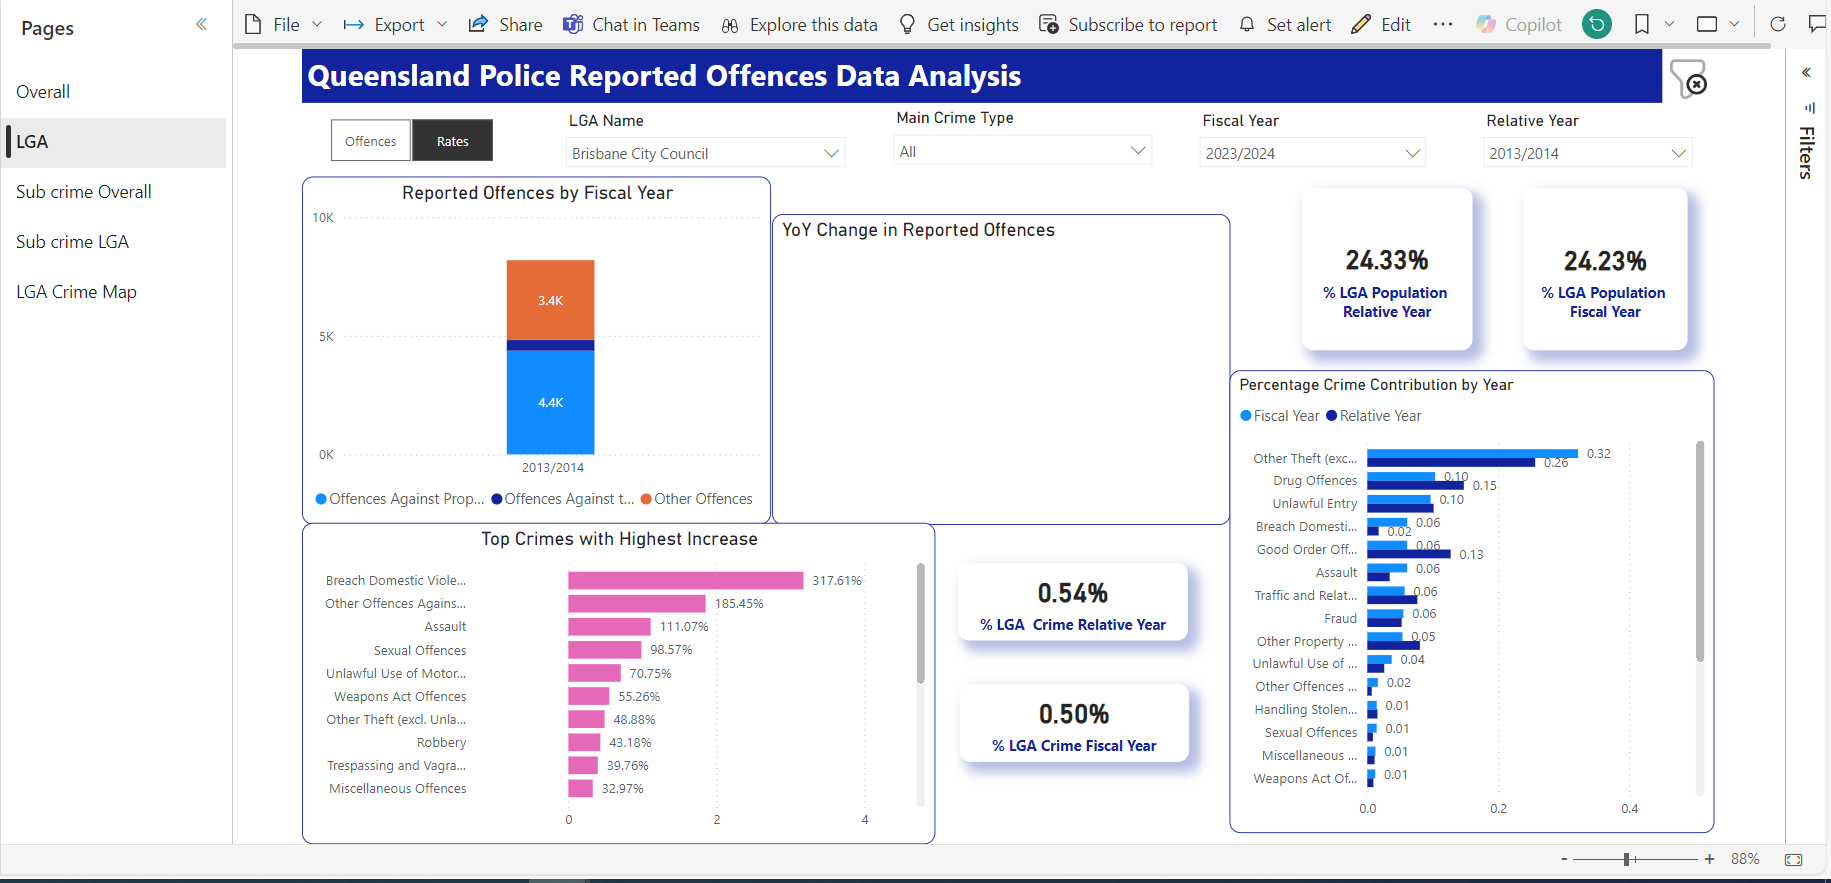

What the dashboard file says about the page in this screenshot:
{"tool":"powerbi","page":{"name":"LGA","canvas":[1280,720],"ordinal":1},"visuals":[{"type":"slicer","fields":{"Values":["LGA Category.LGA Name"]},"box":[228.5,50.6,273.3,78.1],"z":0},{"type":"lineChart","title":"YoY Change in Reported Offences","fields":{"Category":["new Dim Date.Fiscal Year"],"Series":["QLD_LGA_RO_pivot_l.Main Type"],"Y":["Calculations.LGA Dynamic YoY Change"]},"box":[425.1,148.9,415,282],"z":1000},{"type":"slicer","fields":{"Values":["new Dim Date.Fiscal Year"]},"box":[1059.9,50.6,209.7,60.7],"z":2000},{"type":"columnChart","title":"Reported Offences by Fiscal Year","fields":{"Category":["new Dim Date.Fiscal Year"],"Y":["Calculations.LGA Total Crimes"],"Series":["QLD_LGA_RO_pivot_l.Main Type"]},"box":[0,115.7,425.1,315.2],"z":4000},{"type":"slicer","fields":{"Values":["QLD_LGA_RO_pivot_l.Type"]},"box":[0,56.4,196.7,52.1],"z":5000},{"type":"slicer","fields":{"Values":["QLD_LGA_RO_pivot_l.Main Type"]},"box":[524.9,49.2,254.5,63.6],"z":7000},{"type":"slicer","fields":{"Values":["Fiscal Year Table.Fiscal Year"]},"box":[802.5,50.6,225.6,62.2],"z":8000},{"type":"card","fields":{"Values":["Calculations.Percent LGA Population by Relative Year"]},"box":[905.2,125.8,154.7,147.5],"z":9000},{"type":"card","fields":{"Values":["Calculations.Percent LGA Population by Fiscal Year"]},"box":[1106.2,125.8,148.9,147.5],"z":10000},{"type":"barChart","title":"Top Crimes with Highest Increase","fields":{"Category":["QLD_LGA_RO_pivot_l.Sub type"],"Y":["Calculations.LGA Top 10 Crime Change"]},"box":[0,429.5,573.6,290.9],"z":11000},{"type":"card","fields":{"Values":["Calculations.Percent Crime LGA by Fiscal Year"]},"box":[596,575.5,208,70],"z":12000},{"type":"card","fields":{"Values":["Calculations.Percent Crime LGA by Relative Year"]},"box":[594.8,465.7,208,70],"z":13000},{"type":"clusteredBarChart","title":"Percentage Crime Contribution by Year","fields":{"Y":["Calculations.Percent Crime Contribution LGA Fiscal Year","Calculations.Percent Crime Contribution LGA Relative Year"],"Category":["QLD_LGA_RO_pivot_l.Sub type"]},"box":[840.1,290.7,439.6,419.3],"z":14000},{"type":"textbox","box":[0,0,1232,49.2],"z":14001},{"type":"image","box":[1231.7,4.8,48.3,45.8],"z":14002}]}

Visuals, with their boxes on the page's 1280x720 design canvas (x1, y1, x2, y2). These are canvas units, not pixel positions in the 1831x883 screenshot, which may show the page scaled, cropped or inside an application window:
slicer - LGA Category.LGA Name: box=[228, 51, 502, 129]
"YoY Change in Reported Offences" lineChart: box=[425, 149, 840, 431]
slicer - new Dim Date.Fiscal Year: box=[1060, 51, 1270, 111]
"Reported Offences by Fiscal Year" columnChart: box=[0, 116, 425, 431]
slicer - QLD_LGA_RO_pivot_l.Type: box=[0, 56, 197, 108]
slicer - QLD_LGA_RO_pivot_l.Main Type: box=[525, 49, 779, 113]
slicer - Fiscal Year Table.Fiscal Year: box=[802, 51, 1028, 113]
card - Calculations.Percent LGA Population by Relative Year: box=[905, 126, 1060, 273]
card - Calculations.Percent LGA Population by Fiscal Year: box=[1106, 126, 1255, 273]
"Top Crimes with Highest Increase" barChart: box=[0, 430, 574, 720]
card - Calculations.Percent Crime LGA by Fiscal Year: box=[596, 576, 804, 646]
card - Calculations.Percent Crime LGA by Relative Year: box=[595, 466, 803, 536]
"Percentage Crime Contribution by Year" clusteredBarChart: box=[840, 291, 1280, 710]
textbox: box=[0, 0, 1232, 49]
image: box=[1232, 5, 1280, 51]
